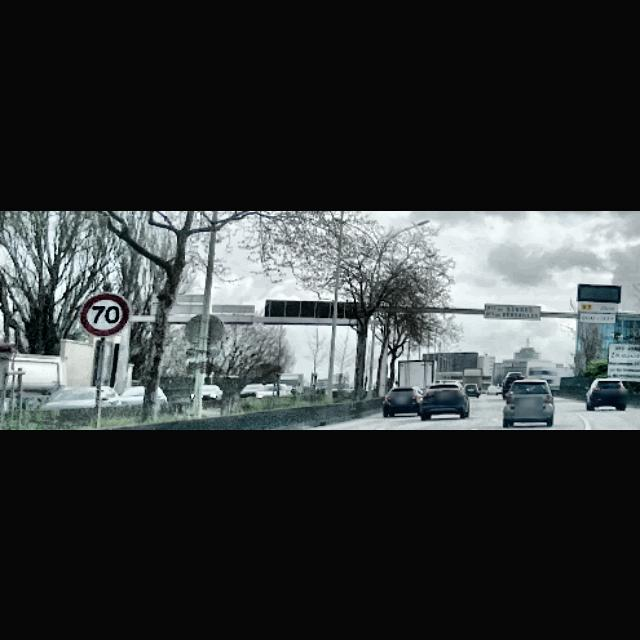speed_70: (78, 292, 130, 336)
